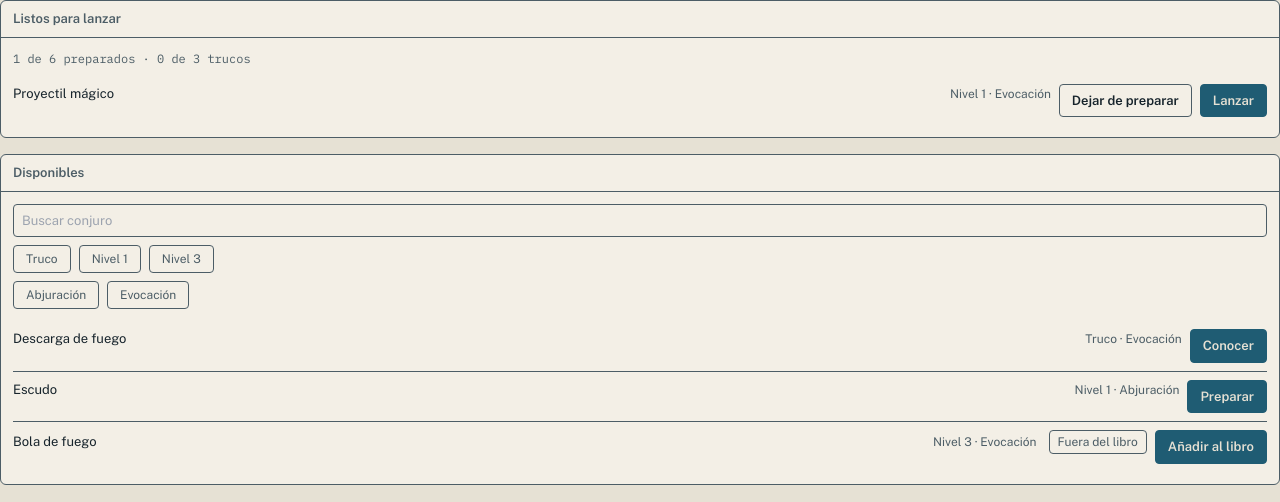
Test: LibroDeConjuros › el chip «Nivel 1» deja solo los conjuros disponibles de nivel 1
Expected: the text "Bola de fuego" is shown, [13,434,97,449]
What coordinates should you click on to do the following:
click the button "Nivel 1"
I would click on:
 (110, 259)
Its box is [79,245,141,273].
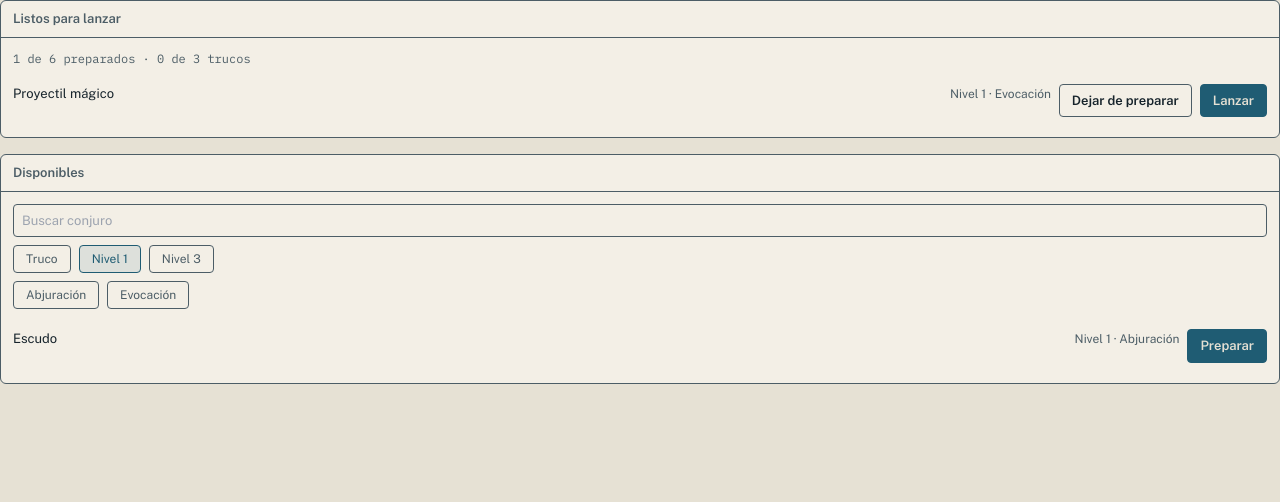
Expected: the text "Escudo" is shown, [13,331,57,346]
Expected: the heading "Bola de fuego" is gone
